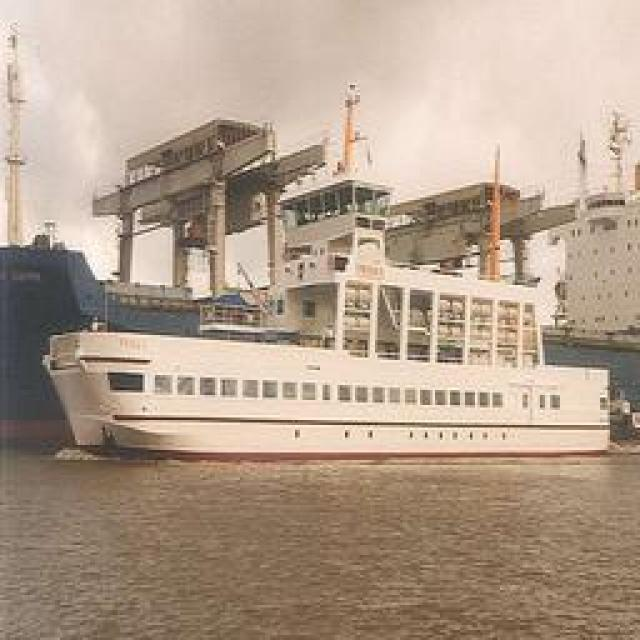ship: (44, 323, 608, 465)
